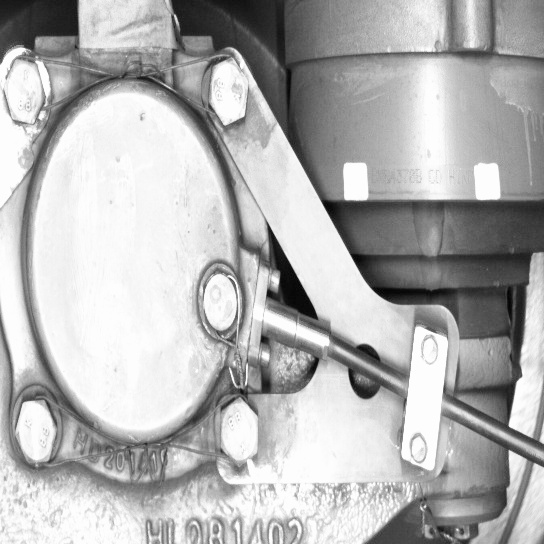IronWire: (8, 390, 265, 476), (0, 50, 253, 132)
Screw: (212, 391, 263, 474), (8, 394, 61, 470), (202, 51, 252, 131), (195, 264, 242, 339)
